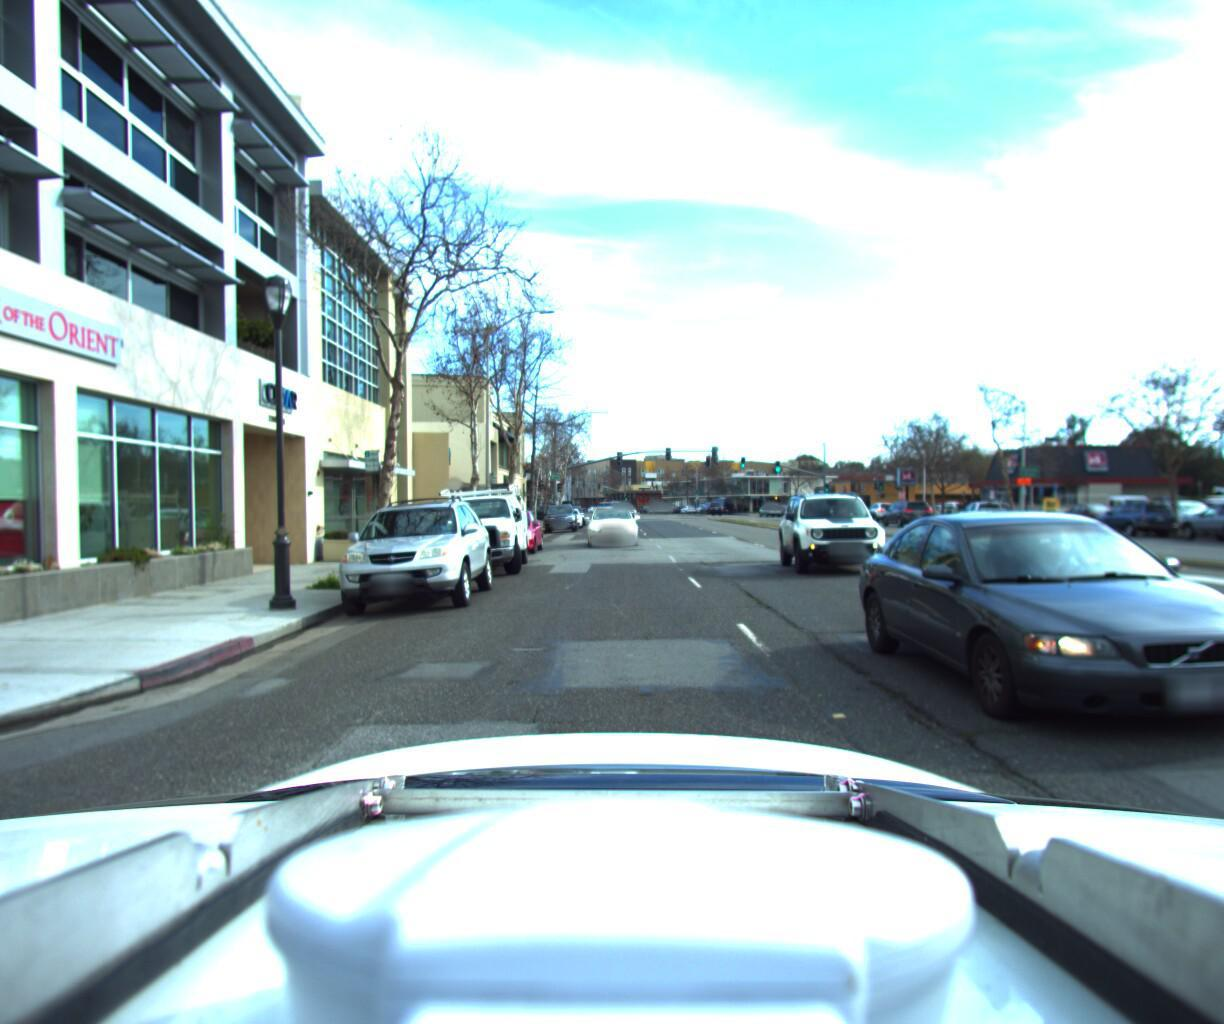car: (877, 504, 1224, 831), (323, 492, 497, 625), (411, 471, 531, 580), (782, 485, 909, 583), (162, 504, 269, 554), (1083, 491, 1180, 532), (481, 501, 542, 551), (1168, 490, 1224, 539), (583, 500, 637, 545), (1145, 489, 1224, 519), (1094, 484, 1161, 516), (960, 491, 1025, 521), (948, 494, 1011, 522), (1058, 494, 1126, 517), (876, 496, 926, 521), (542, 495, 578, 525), (1198, 487, 1224, 513), (558, 498, 583, 520)
truck: (0, 475, 186, 582)
